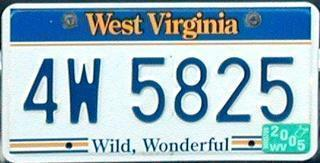placa de veiculo: (4, 7, 314, 158)
